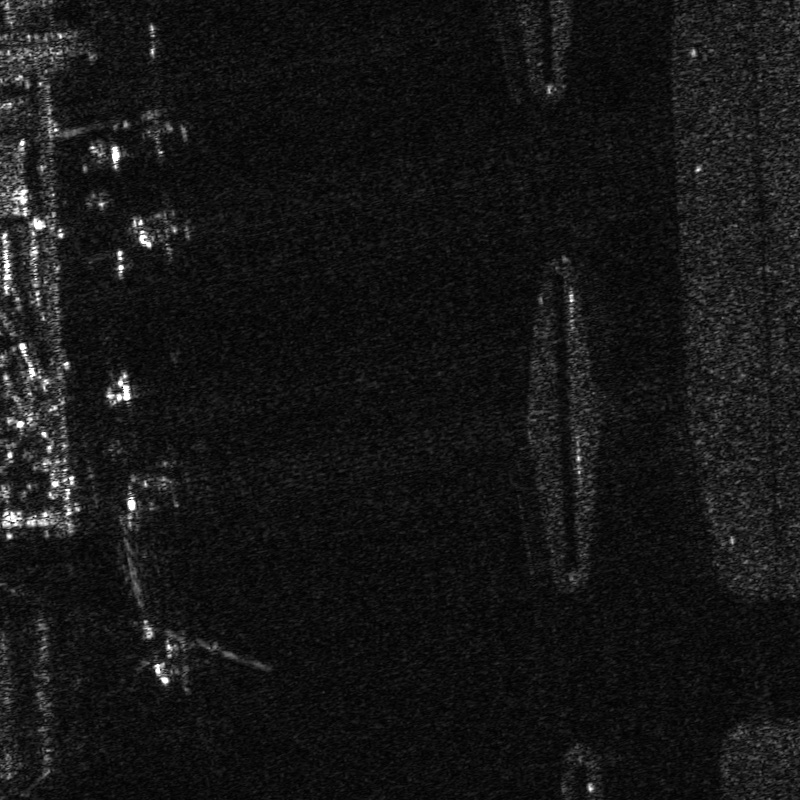A220: (146, 621, 241, 694), (121, 201, 205, 265), (126, 95, 200, 164), (124, 446, 198, 513)
